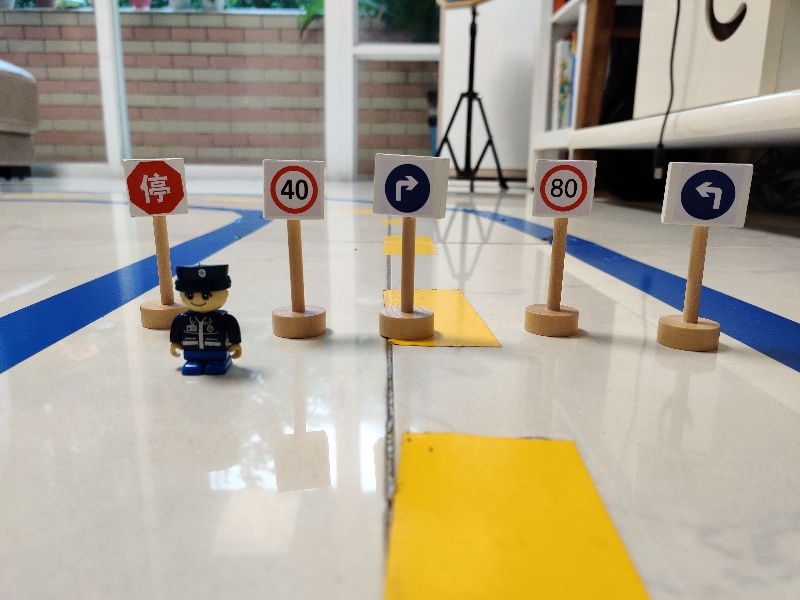limit_40: (257, 157, 327, 223)
limit_80: (529, 159, 595, 218)
person: (164, 262, 246, 379)
stop: (119, 156, 192, 218)
turn_left: (664, 159, 754, 230)
turn_right: (371, 151, 454, 223)
